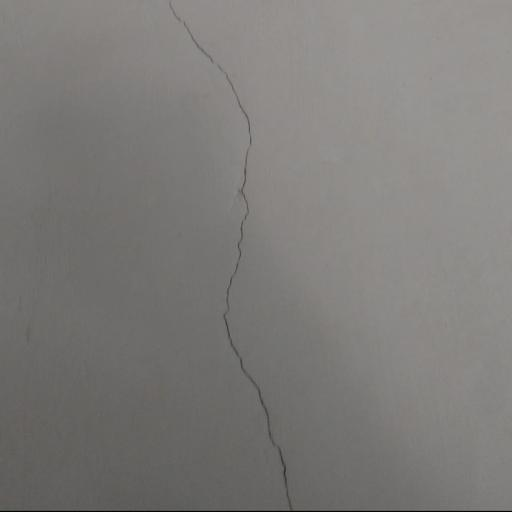minor_crack: (153, 0, 314, 512)
